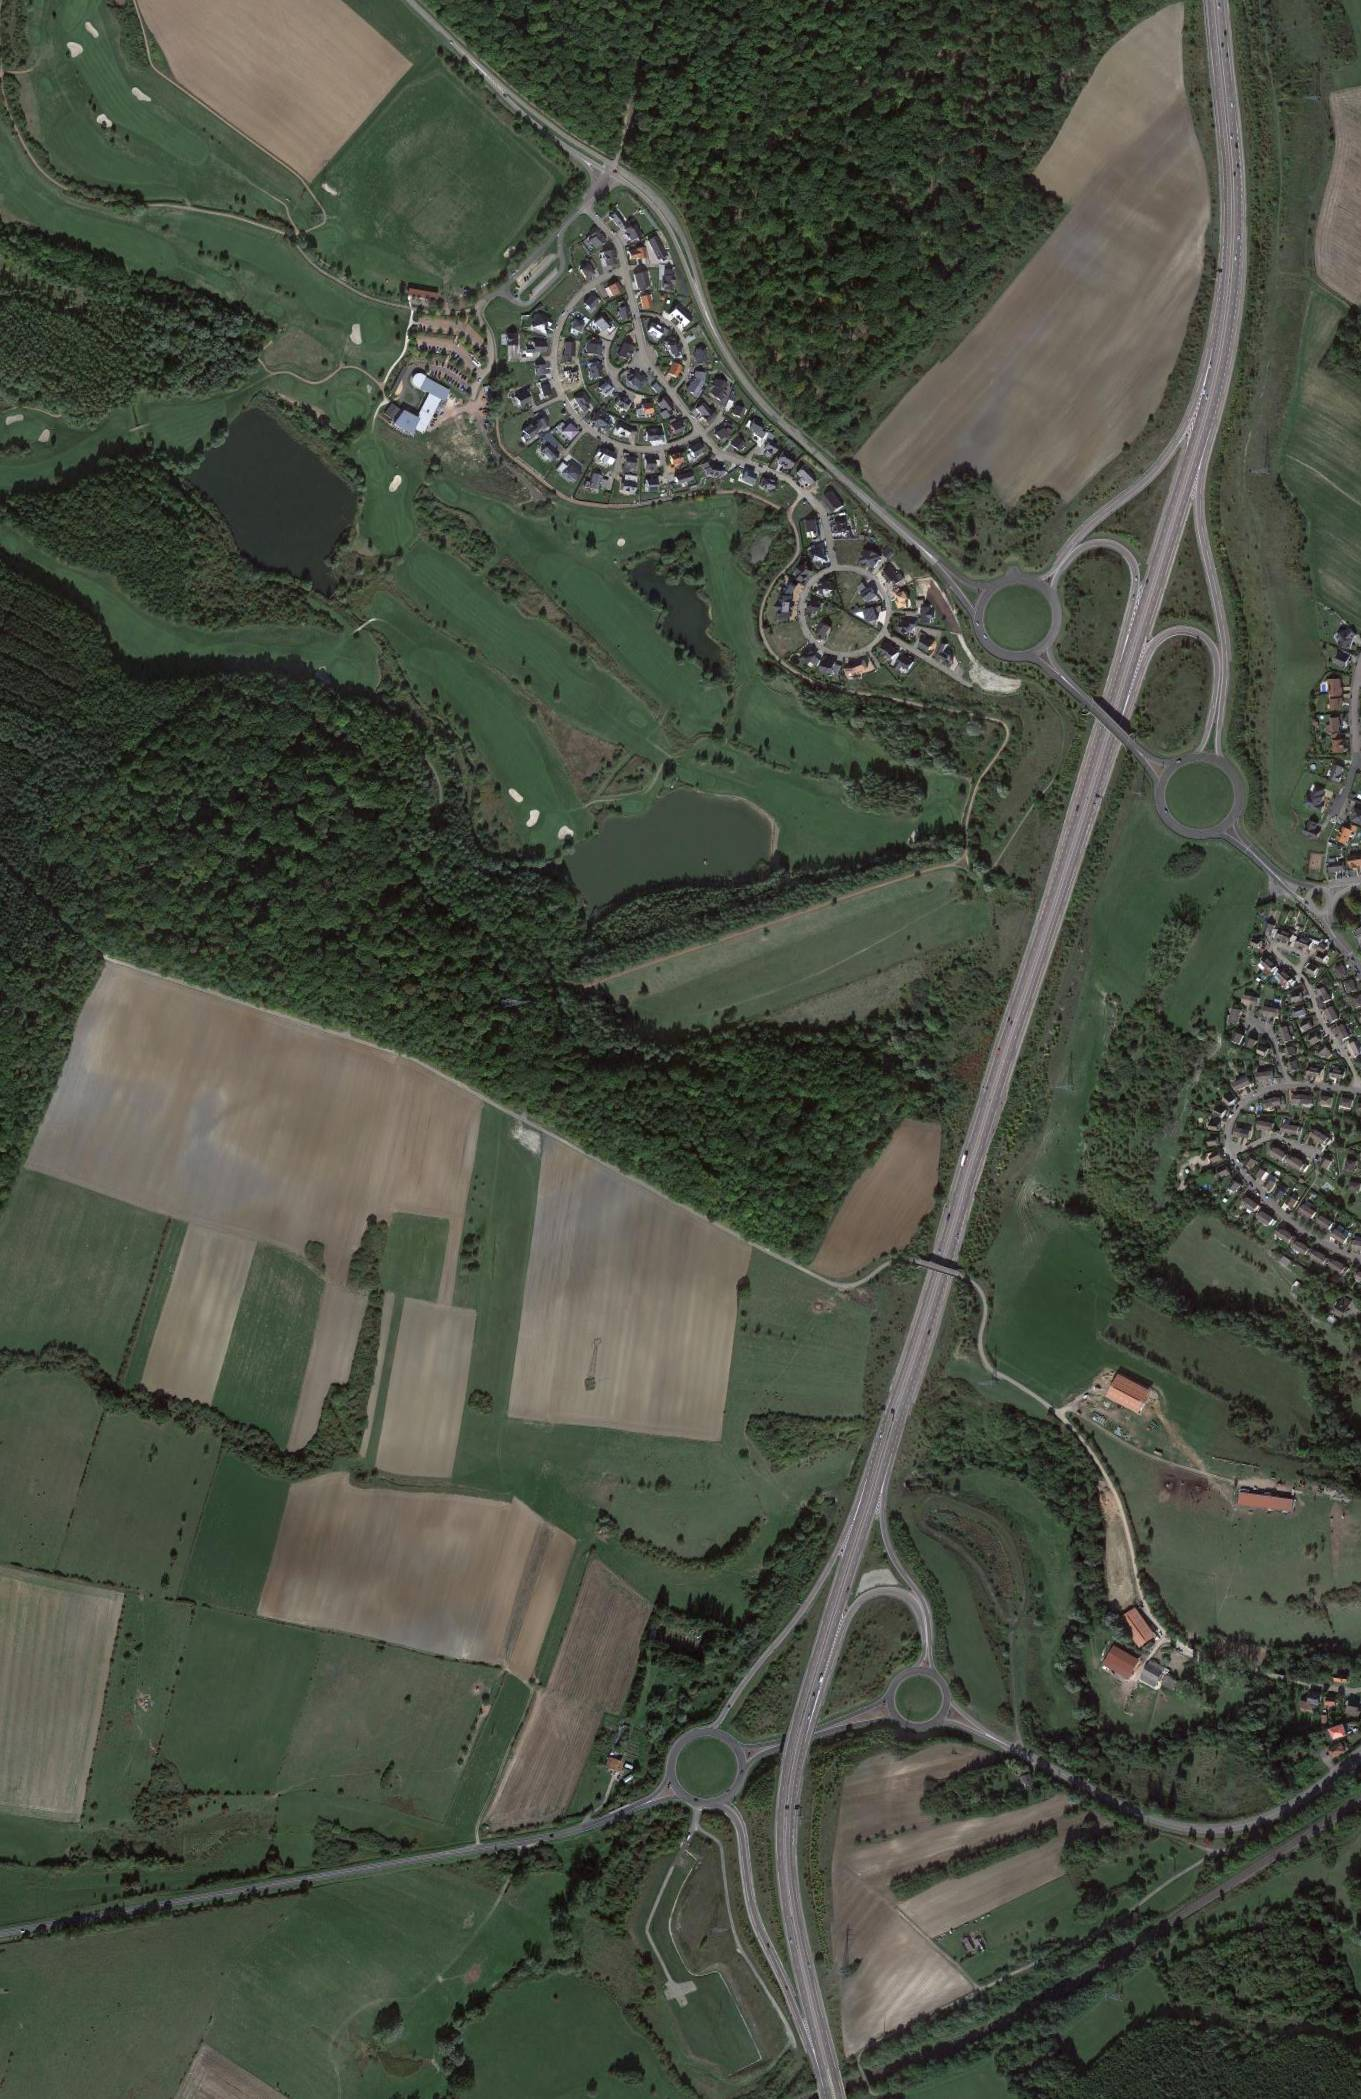roundabout: (1161, 744, 1246, 841), (973, 571, 1060, 656), (671, 1723, 746, 1811), (893, 1660, 951, 1724)
